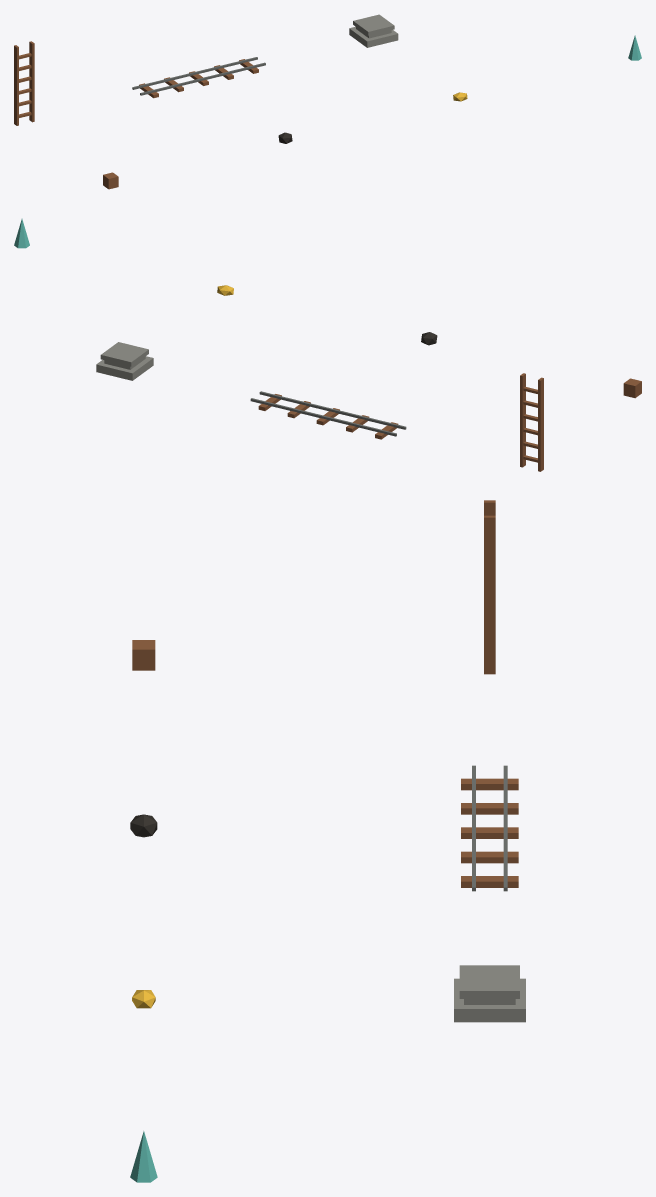
Rendered from garimpo.glb.
The picture shows the model from 3 angles, top to bottom: view 1: azimuth 30°, elevation 25°; view 2: azimuth 150°, elevation 25°; view 3: azimuth 270°, elevation 25°; orthographic projection. The views are drawn at different scales.
Parts seen in each view (by area): view 1: board_trilho, board_altar, board_escada; view 2: board_trilho, board_altar, board_escada; view 3: board_trilho, board_altar, board_escada.
Part boxes in pixels (x1,y1,x2,y2): board_trilho: (132, 57, 265, 98); board_altar: (349, 14, 398, 47); board_escada: (14, 41, 34, 125); board_trilho: (250, 391, 406, 439); board_altar: (96, 342, 153, 380); board_escada: (520, 373, 543, 471); board_trilho: (461, 765, 518, 891); board_altar: (454, 965, 525, 1022); board_escada: (484, 500, 495, 674).
Bounding box in the file's own units: 43.13 × 6.04 × 13.73.
